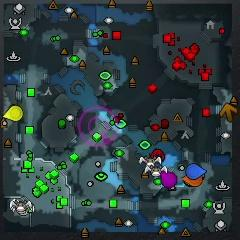p1: (186, 163, 206, 178)
p3: (161, 170, 176, 187)
p4: (4, 105, 24, 121)
p5: (182, 174, 203, 186)
x5: (220, 102, 236, 123)
